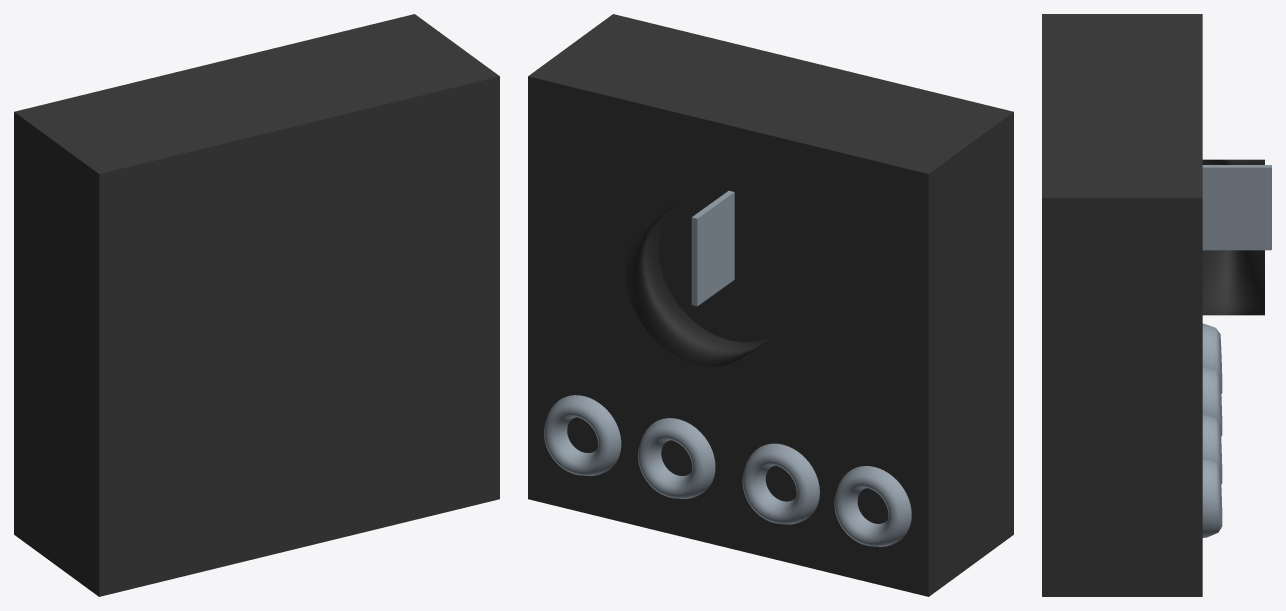
Rendered from VCO-2.fbx.
The picture shows the model from 3 angles, left to right: view 1: azimuth 30°, elevation 25°; view 2: azimuth 150°, elevation 25°; view 3: azimuth 270°, elevation 25°; orthographic projection. The views are drawn at different scales.
Parts seen in each view (by area): view 1: Cube; view 2: Cube; view 3: Cube.
Boxes of the visible parts, x1,y1,x2,y2 form: Cube: (14,14,499,596); Cube: (528,14,1013,596); Cube: (1042,14,1271,596).
Bounding box in the file's own units: 251 × 253 × 132.
